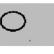no answer: (0, 11, 28, 32)
